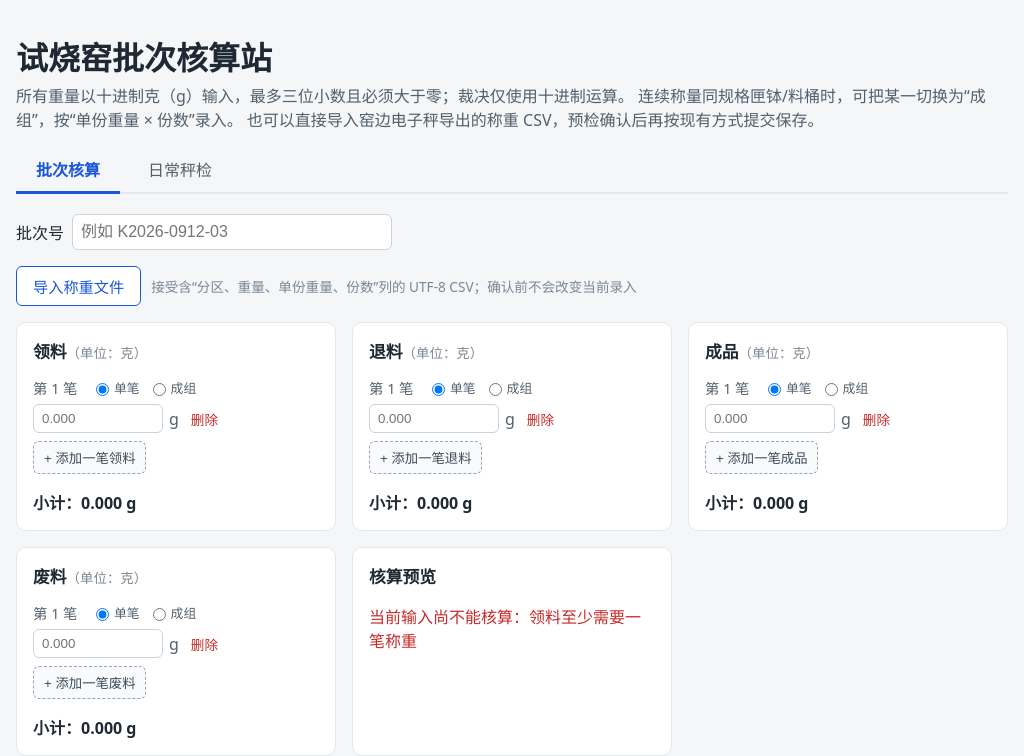
App 核算站 › 成组份数越界时本地定位到对应分区和行，且不发请求
Step 1. Type "BAD-GROUP" into the field with test id "batch-no" showing "批次号" → (232, 232), box top-left (72, 214), bottom-right (392, 250)
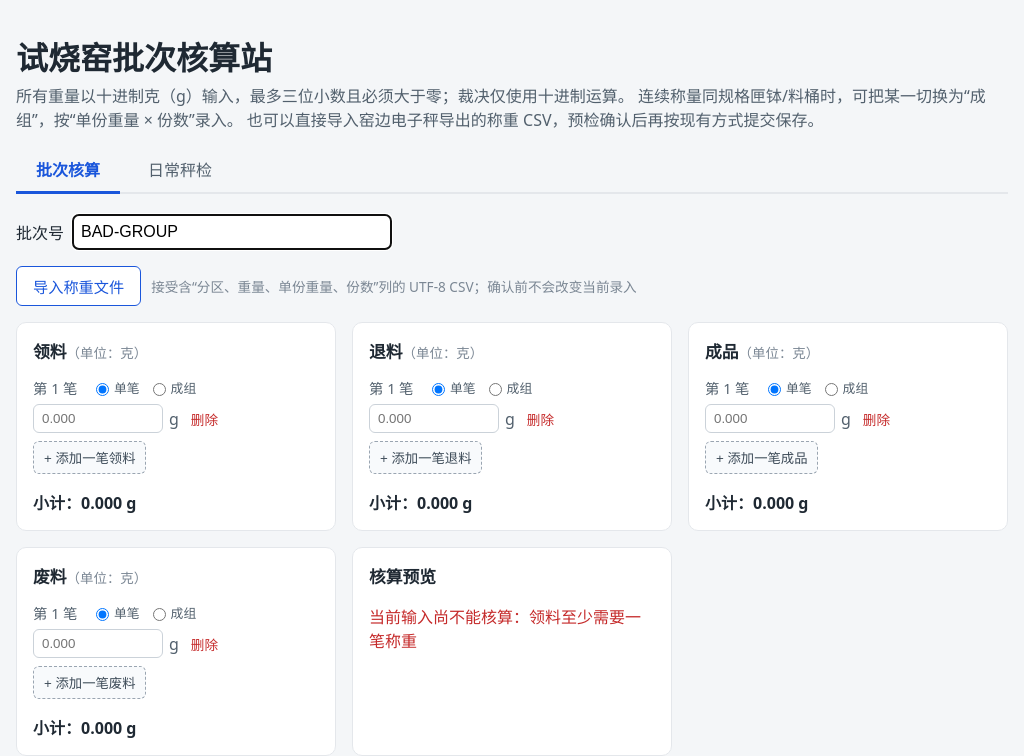
Step 2. Click the 1st radio button labelled "成组" → (159, 389), box top-left (153, 383), bottom-right (166, 396)
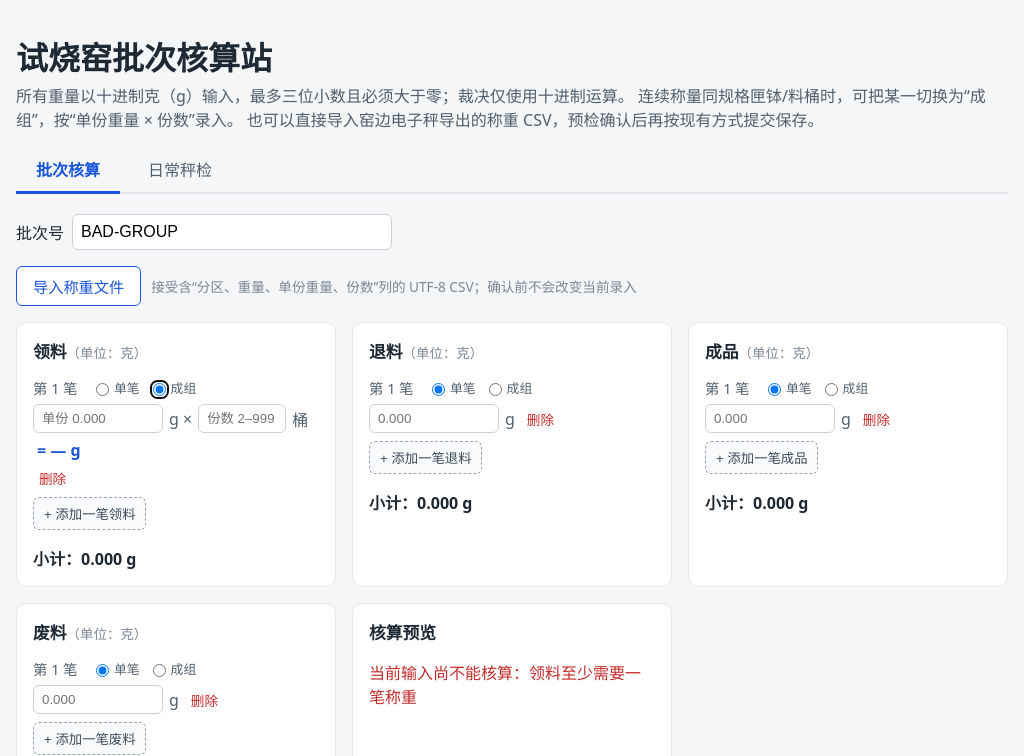
Step 3. Type "12.5" into the field named "领料第1笔单份重量（克）" → (98, 419), box top-left (33, 404), bottom-right (163, 433)
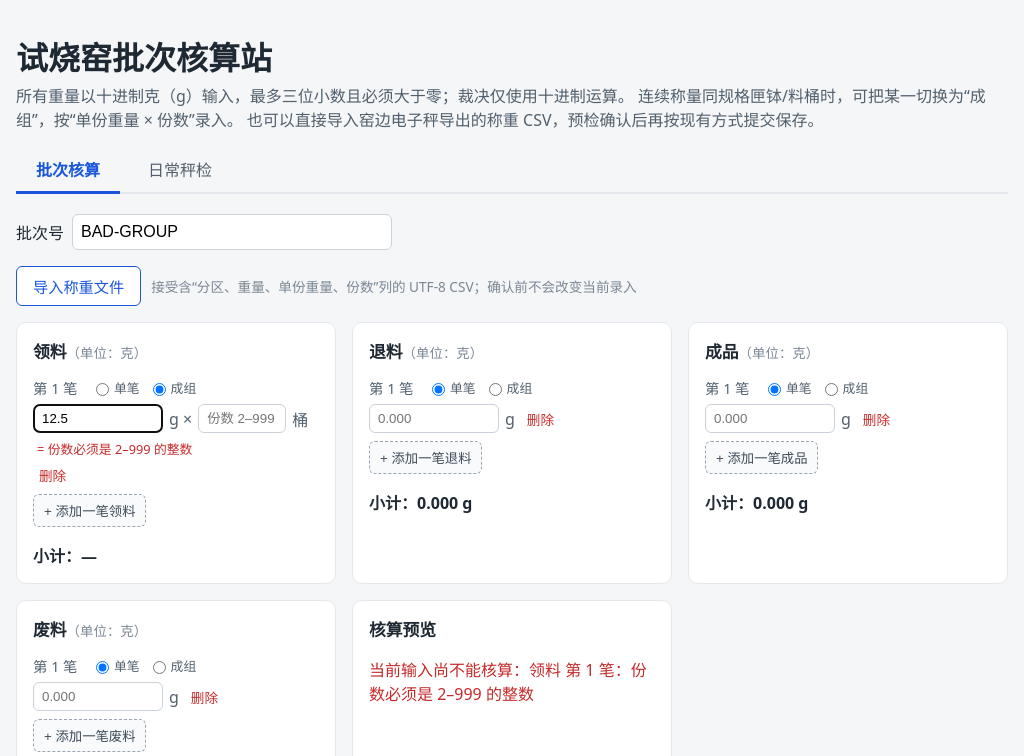
Step 4. Type "1000" into the field named "领料第1笔份数" → (242, 419), box top-left (198, 404), bottom-right (286, 433)
(page scrolled)
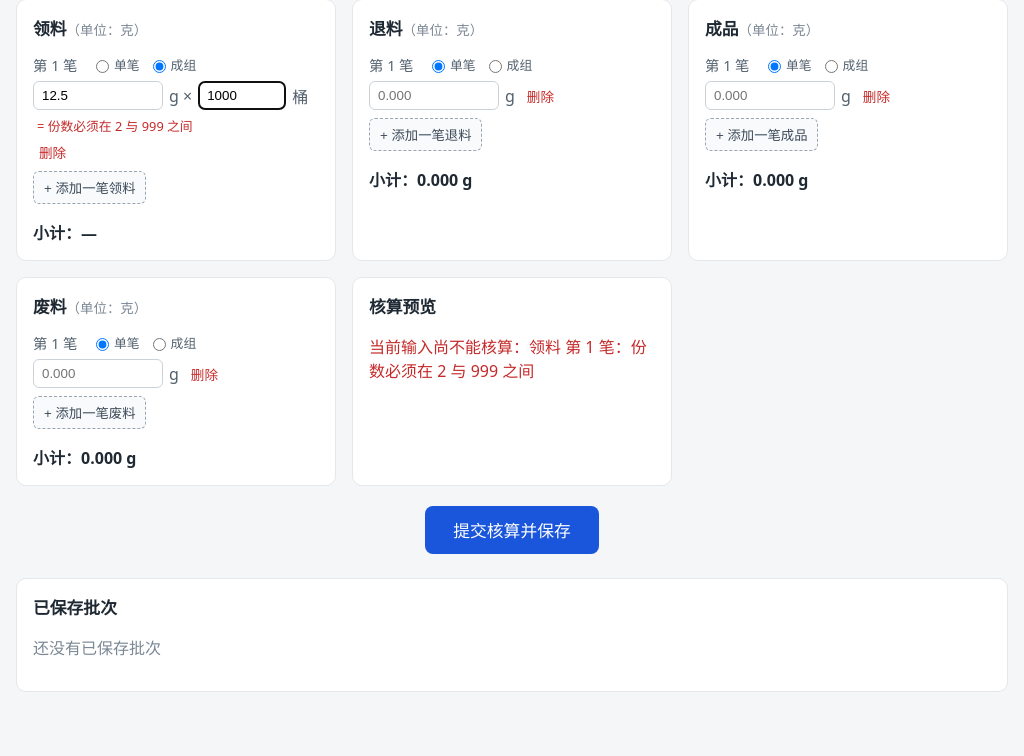
Now the text with test id "adopted-issued-0" shows "份数", box top-left (37, 117), bottom-right (193, 135)
Now the text "当前输入尚不能核算：领料 第 1 笔：份数必须在 2 与 999 之间" is shown, box top-left (369, 334), bottom-right (655, 382)
Step 5. Click the button with test id "submit" → (512, 530), box top-left (425, 506), bottom-right (599, 554)
(page scrolled)
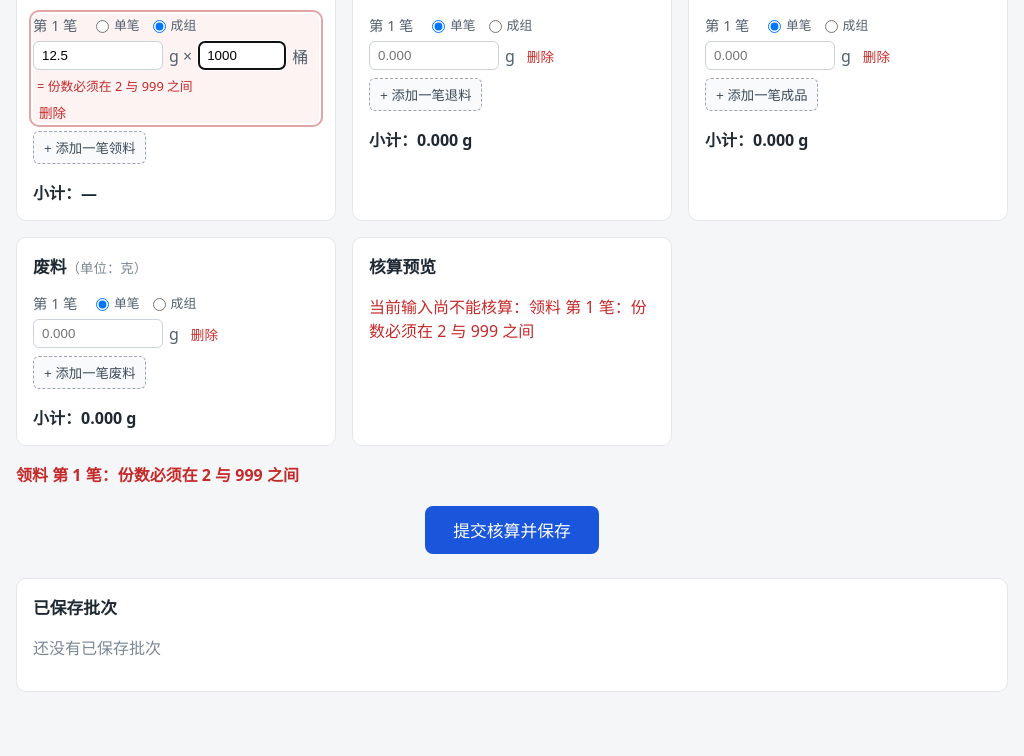
Now the message with test id "form-error" reads "领料 第 1 笔：份数必须在 2 与 999 之间", box top-left (16, 464), bottom-right (299, 486)
